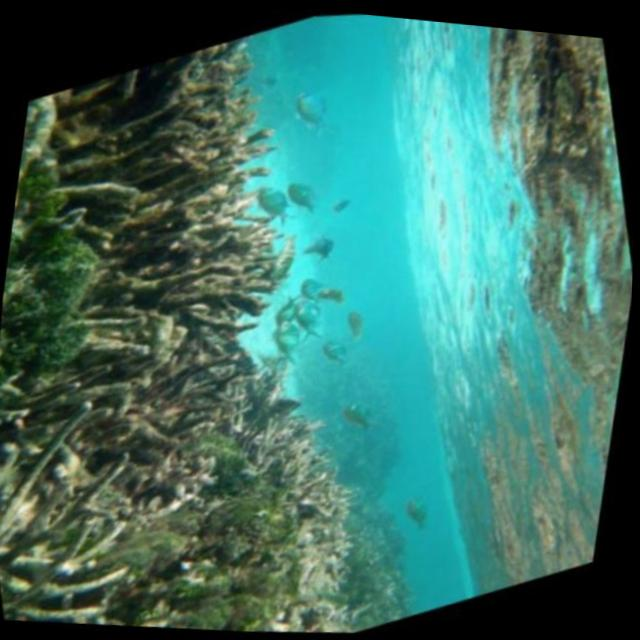Dead Coral: (8, 0, 357, 389), (6, 303, 303, 561)
